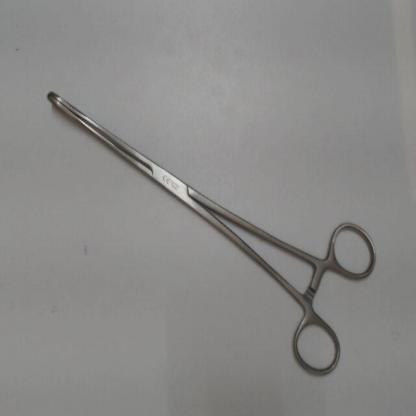Sponge Forceps: (40, 82, 386, 384)
